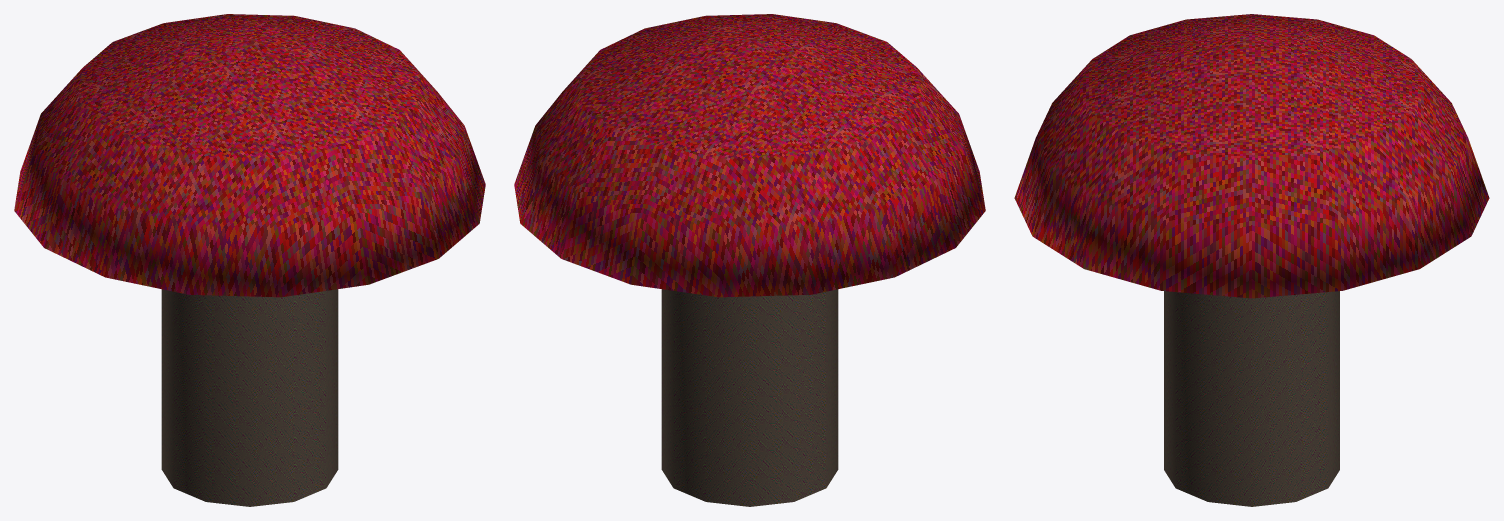
3 renders of one model, left to right at view 1: azimuth 30°, elevation 25°; view 2: azimuth 150°, elevation 25°; view 3: azimuth 270°, elevation 25°, orthographic.
Parts seen in each view (by area): view 1: it401; view 2: it401; view 3: it401.
Part boxes in pixels (bbox=[...]): it401: bbox=[14, 14, 485, 506]; it401: bbox=[514, 14, 985, 506]; it401: bbox=[1014, 14, 1489, 506].
Bounding box in the file's own units: 0.4701 × 0.4681 × 0.4701.
Materials: 3 (3 with a texture image).
